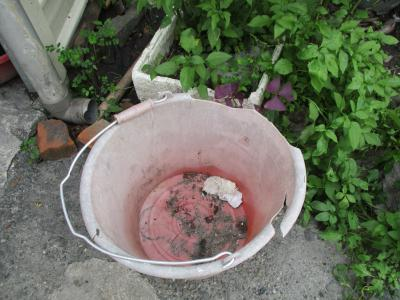bucket: (76, 91, 313, 282)
styrofoam: (131, 7, 286, 110)
